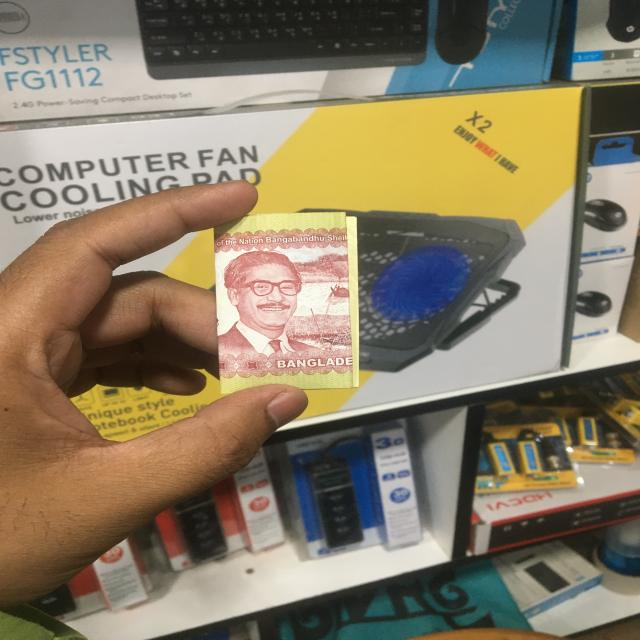Taka: (212, 213, 358, 390)
